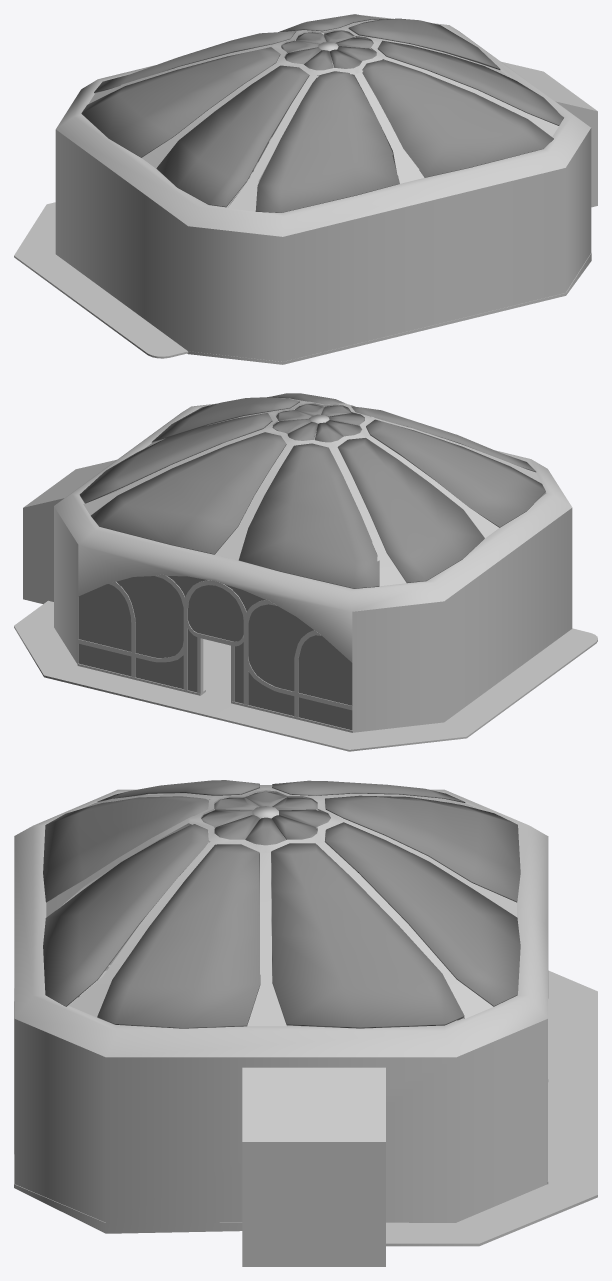
Rendered from SM_Penthouse_Groundwork.fbx.
The picture shows the model from 3 angles, top to bottom: view 1: azimuth 30°, elevation 25°; view 2: azimuth 150°, elevation 25°; view 3: azimuth 270°, elevation 25°; orthographic projection. The views are drawn at different scales.
Visible parts, largest first — view 1: Cube.003, Cube.004, Cube.005; view 2: Cube.004, Cube.003, Cube.005, Cube.006; view 3: Cube.003, Cube.004, Cube.005.
Boxes of the visible parts, box(x1,y1,x2,y2) form: Cube.003: box(14, 15, 597, 364); Cube.004: box(81, 14, 563, 212); Cube.005: box(88, 19, 558, 211); Cube.004: box(78, 393, 545, 730); Cube.003: box(14, 403, 597, 751); Cube.005: box(83, 397, 546, 586); Cube.006: box(77, 663, 352, 732); Cube.003: box(14, 789, 597, 1266); Cube.004: box(43, 780, 520, 1028); Cube.005: box(46, 785, 517, 1026).
Bounding box in the file's own units: 3727 × 1587 × 2885.
